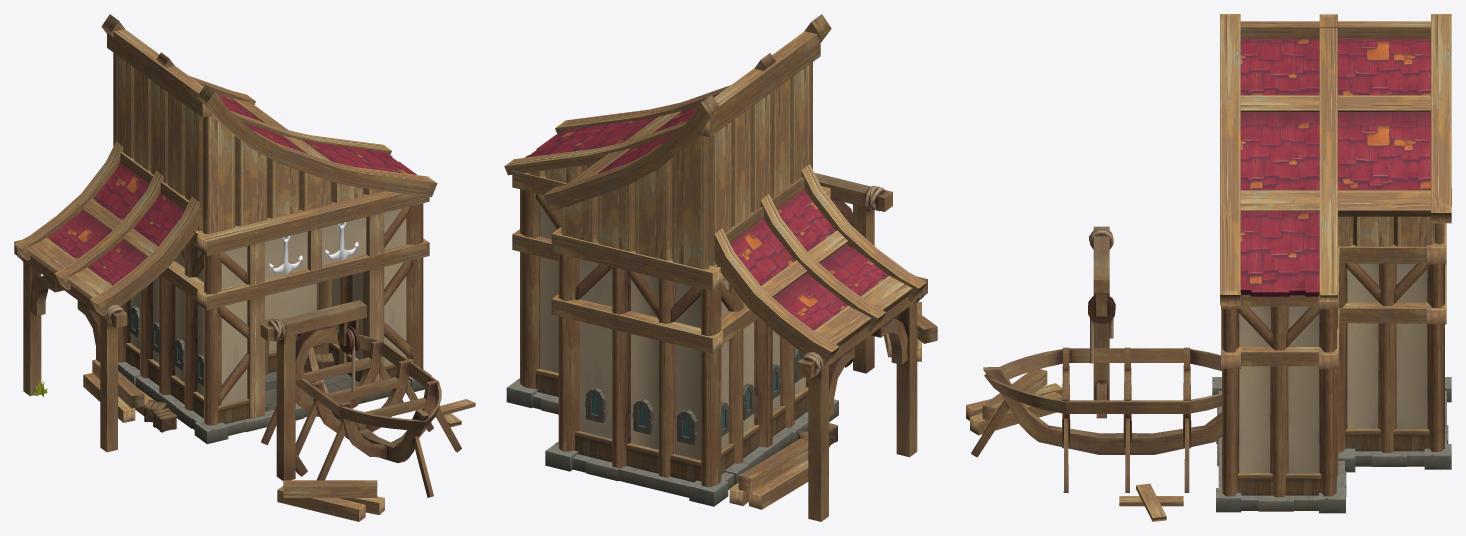
The model's file is shipyard.fbx.
The picture shows the model from 3 angles, left to right: view 1: azimuth 30°, elevation 25°; view 2: azimuth 150°, elevation 25°; view 3: azimuth 270°, elevation 25°; orthographic projection. The views are drawn at different scales.
Visible parts, largest first — view 1: shipyard; view 2: shipyard; view 3: shipyard.
Boxes of the visible parts, <box> form: shipyard: <box>14,14,475,521</box>; shipyard: <box>504,14,937,521</box>; shipyard: <box>966,14,1451,521</box>.
Bounding box in the file's own units: 3461 × 3493 × 3952.
